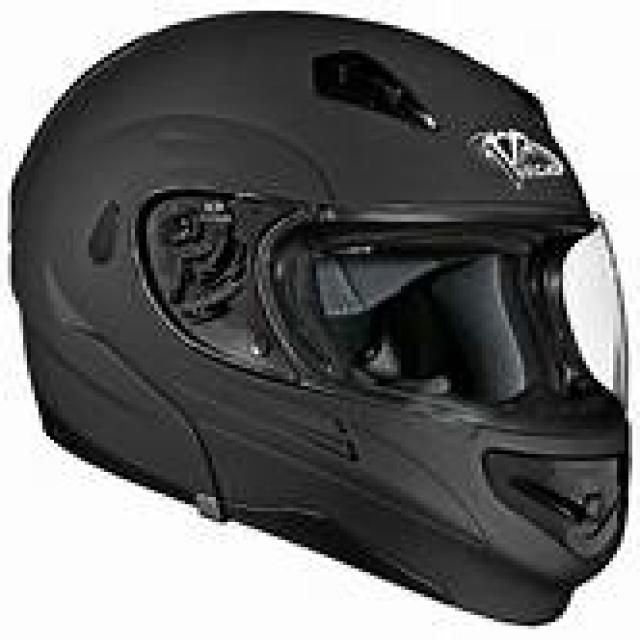helmet: (12, 14, 625, 622)
